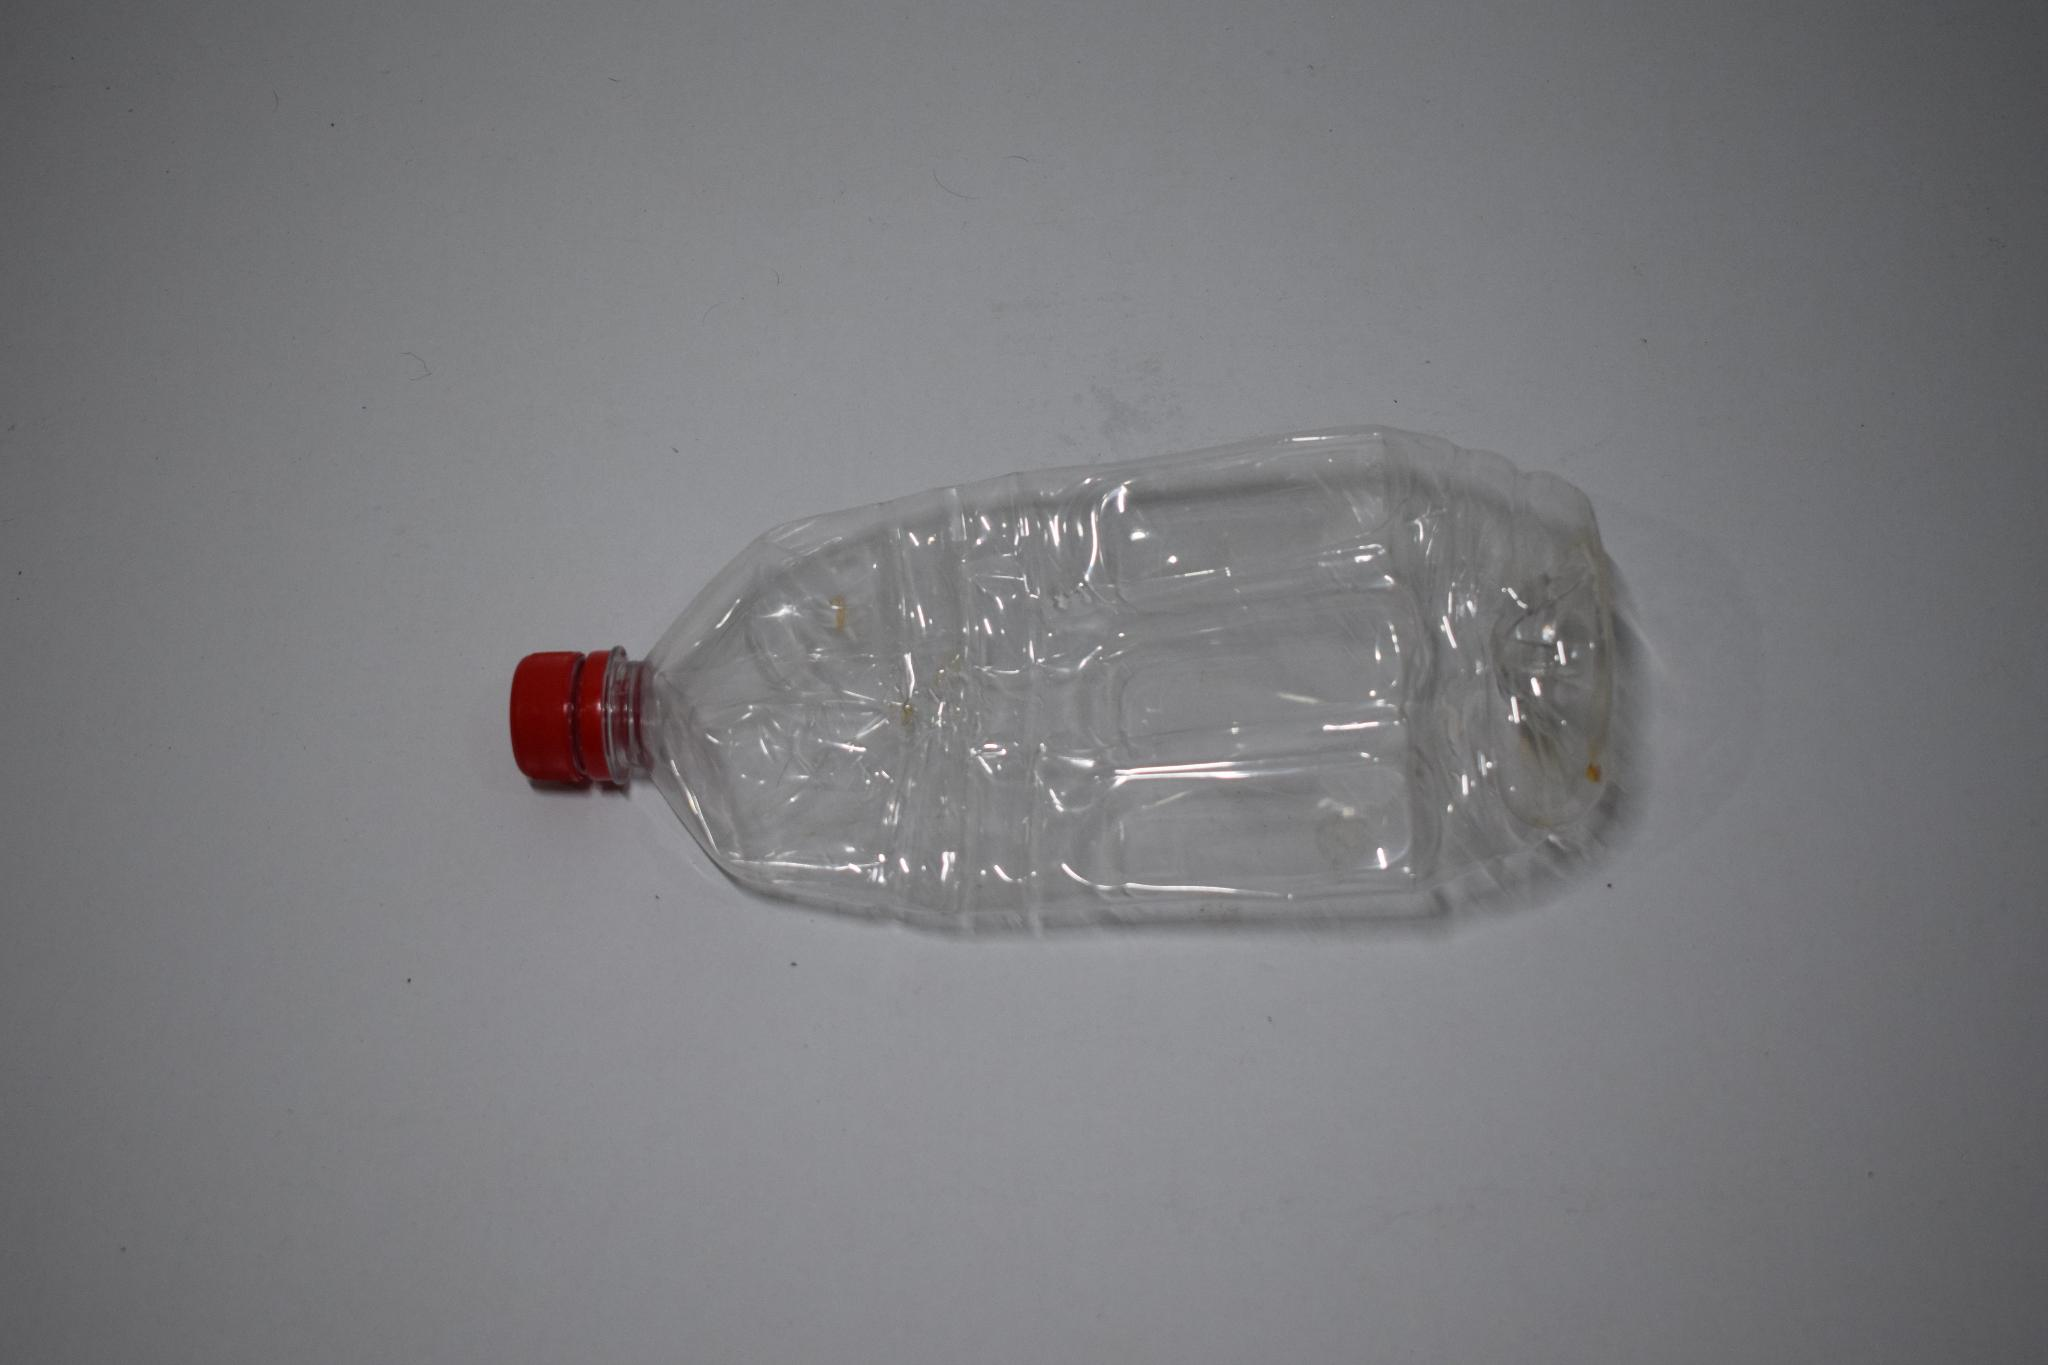bottle: (486, 420, 1710, 938)
